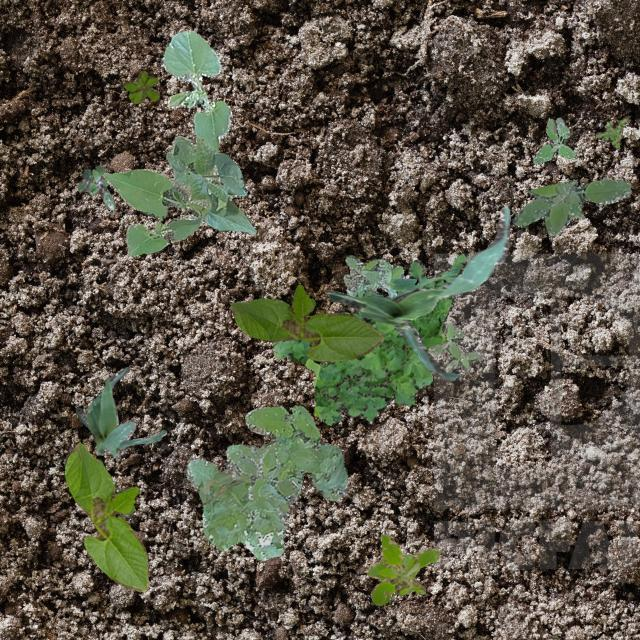crop: (324, 204, 510, 380), (102, 134, 255, 256), (64, 440, 148, 590), (230, 284, 382, 361), (160, 29, 230, 152), (74, 366, 166, 458)
weed: (272, 252, 464, 423), (185, 404, 346, 560), (512, 176, 630, 234), (364, 532, 438, 604), (236, 446, 298, 500), (428, 322, 482, 372), (342, 254, 402, 298), (532, 116, 576, 162), (76, 164, 114, 208), (122, 70, 158, 102), (594, 118, 626, 146)
